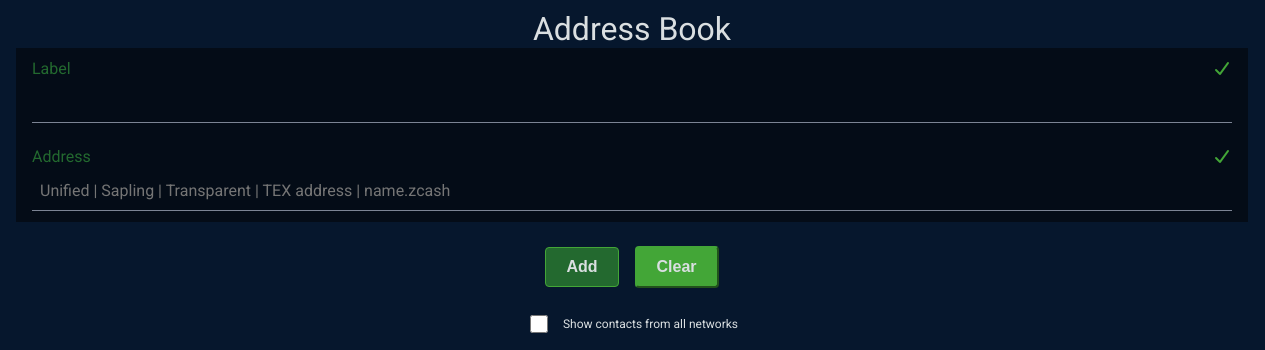
Scenario: AddressBook › shows 'ZNS name not found' when alias does not resolve
This screenshot has width=1265, height=350.
Type "ghost.zcash" into the field labelled "Unified | Sapling | Transparent | TEX address | name.zcash" at (632, 190), box [32,170,1232,211]
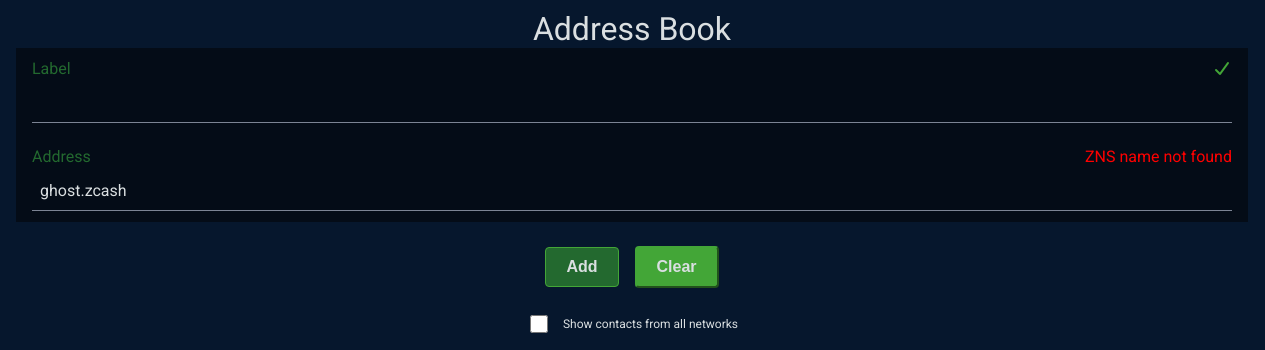
Expected: the text "ZNS name not found" is shown, [1085,147,1232,166]
